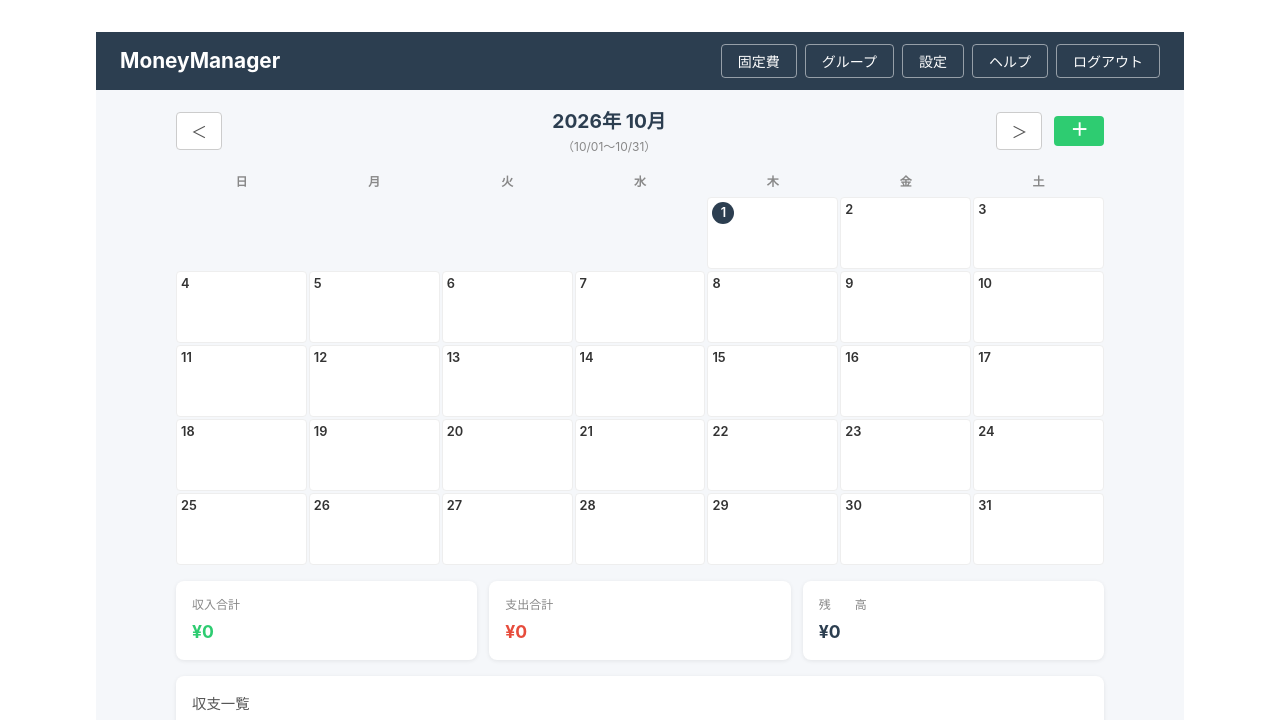
CalendarView › 日付セルをクリックするとその日の収支一覧モーダルが開く
Click the element with class "is-today" at (773, 233), box [707, 197, 838, 269]
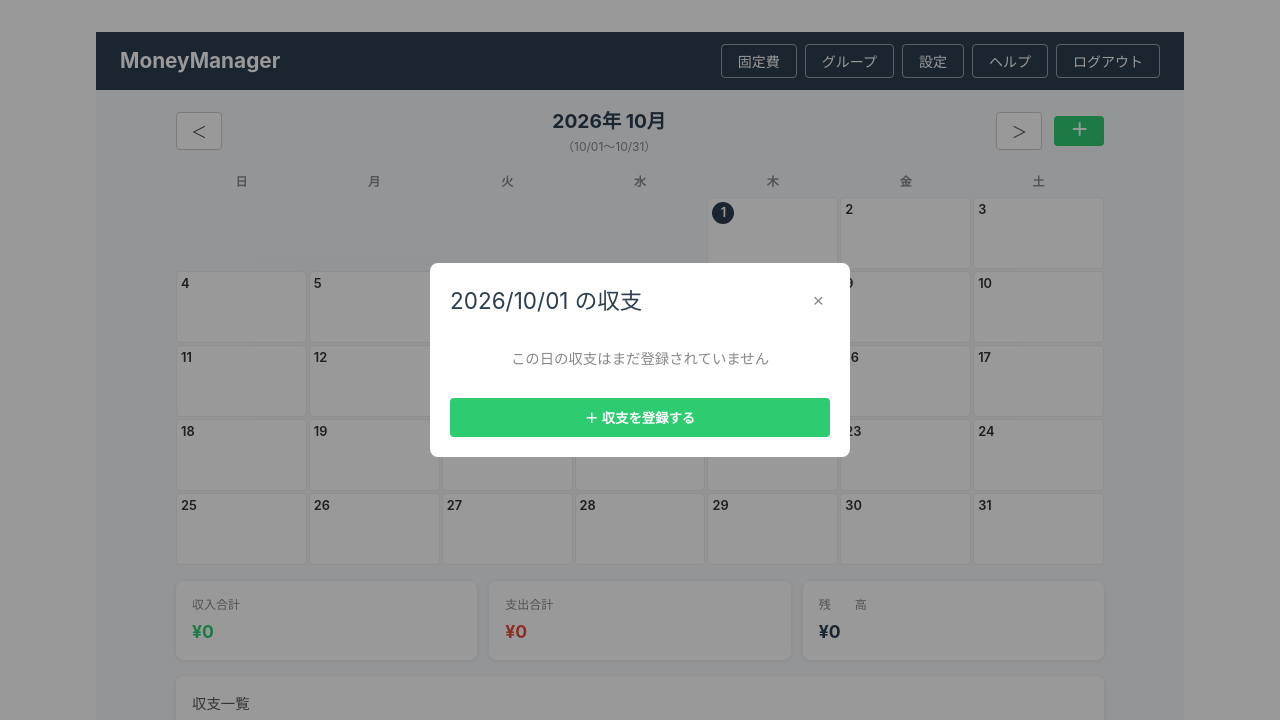
Now the element showing "2026/10/01 の収支 × この日の収支はまだ登録されていません ＋ 収支を登録する" is shown
